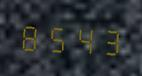eight: (18, 17, 43, 54)
five: (44, 18, 69, 55)
four: (70, 20, 95, 57)
three: (96, 21, 121, 58)
